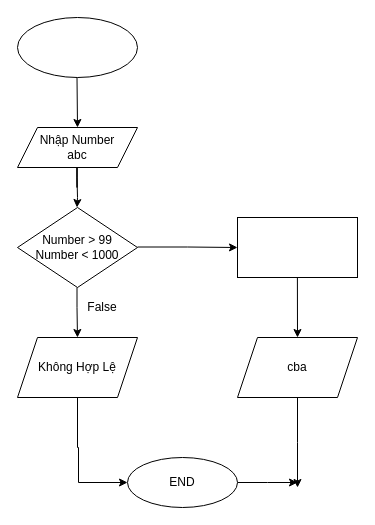
Some shapes in this 375 by 525 pixel diagram are drawn without their labels. Each missing label, with the centre of its shape:
"abc = a*100+b*10+c" belongs at pixel 297 247.
"Start" belongs at pixel 77 47.
